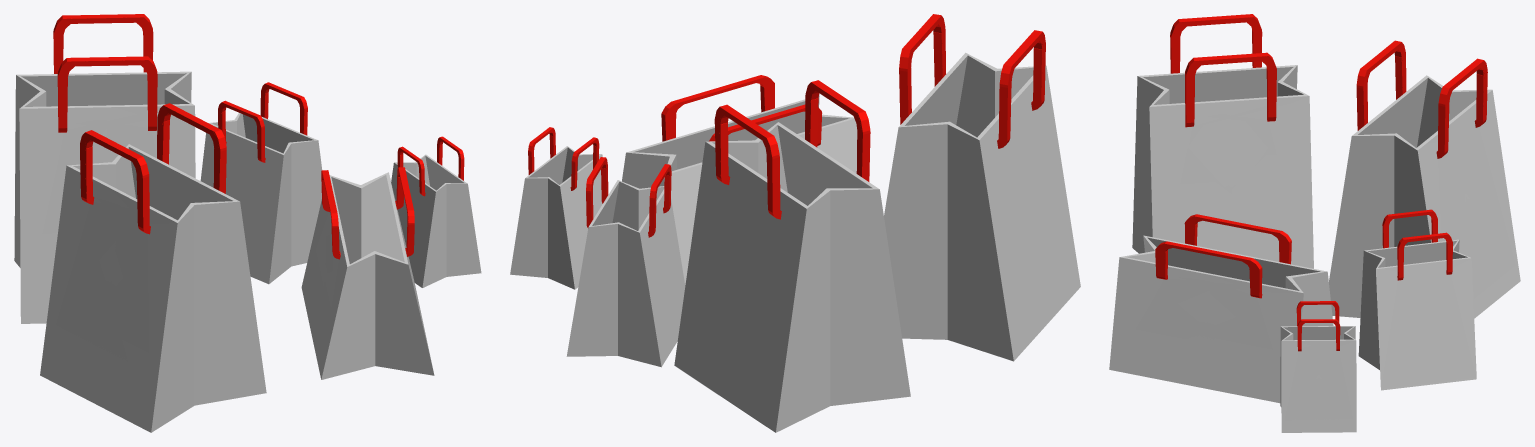
The model's file is totebag.fbx.
3 renders of one model, left to right at view 1: azimuth 30°, elevation 25°; view 2: azimuth 150°, elevation 25°; view 3: azimuth 270°, elevation 25°, orthographic. The views are drawn at different scales.
Visible parts, largest first — view 1: Cube.033, Cube.034, Cube.032, Cube.035, Cube.036; view 2: Cube.034, Cube.033, Cube.035, Cube.032, Cube.036; view 3: Cube.033, Cube.034, Cube.032, Cube.035, Cube.036.
Boxes of the visible parts, x1=… form: Cube.033: x1=40, y1=103, x2=266, y2=432; Cube.034: x1=14, y1=14, x2=195, y2=323; Cube.032: x1=301, y1=167, x2=434, y2=379; Cube.035: x1=200, y1=82, x2=322, y2=284; Cube.036: x1=391, y1=136, x2=481, y2=287; Cube.034: x1=674, y1=80, x2=910, y2=432; Cube.033: x1=884, y1=14, x2=1080, y2=361; Cube.035: x1=566, y1=157, x2=685, y2=367; Cube.032: x1=622, y1=75, x2=857, y2=284; Cube.036: x1=510, y1=127, x2=602, y2=289; Cube.033: x1=1132, y1=14, x2=1313, y2=268; Cube.034: x1=1329, y1=40, x2=1520, y2=318; Cube.032: x1=1109, y1=214, x2=1333, y2=403; Cube.035: x1=1358, y1=209, x2=1476, y2=390; Cube.036: x1=1280, y1=301, x2=1356, y2=432.
Bounding box in the file's own units: 24.9 × 13.84 × 22.07.
